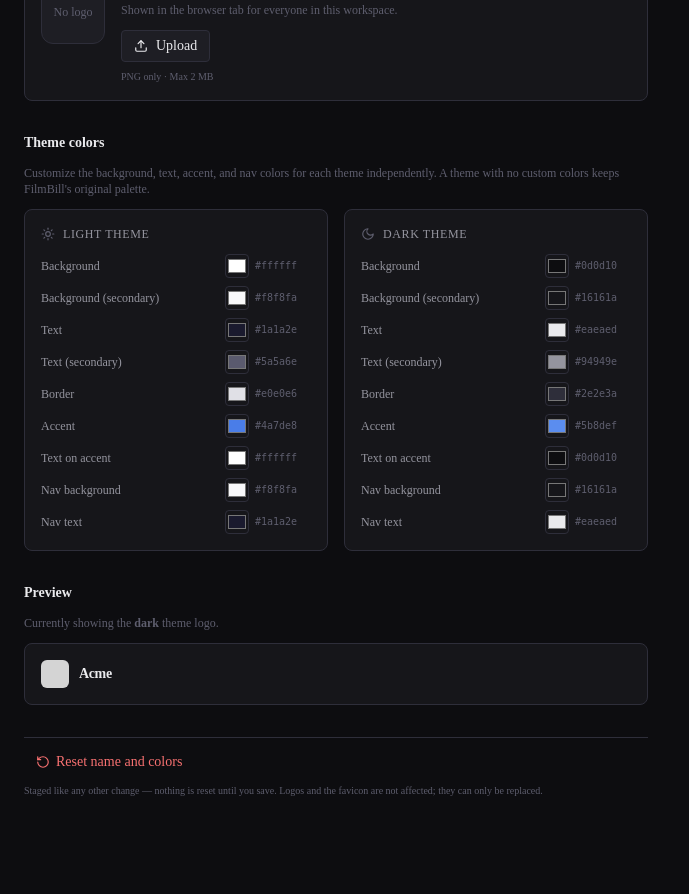
Test: branding draft state › Reset name and colors stages, and can be backed out of
The width and height of the screenshot is (689, 894).
(page scrolled)
Click the button "Reset name and colors": (109, 762) [24,746,194,778]
(page scrolled)
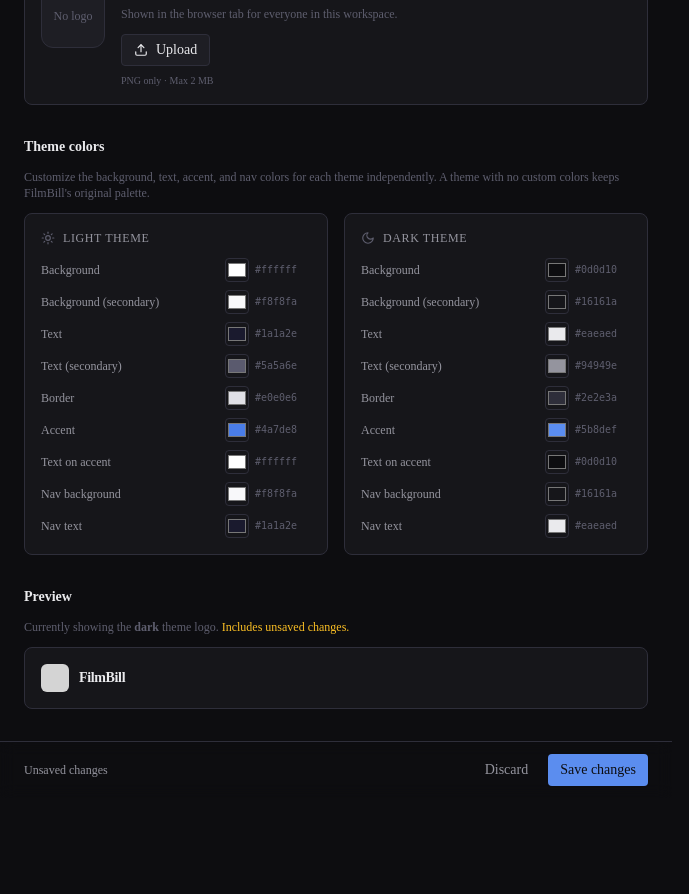
Click the button "Discard": (506, 770) [473,754,540,786]
(page scrolled)
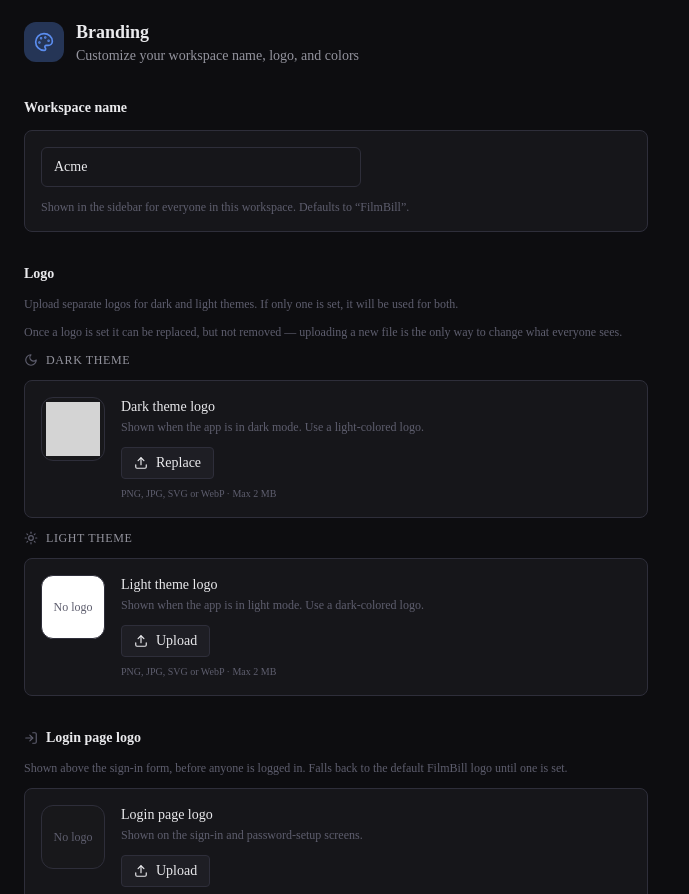
Expected: the field with placeholder "e.g. Acme Studio" holds "Acme", [41,147,361,187]
